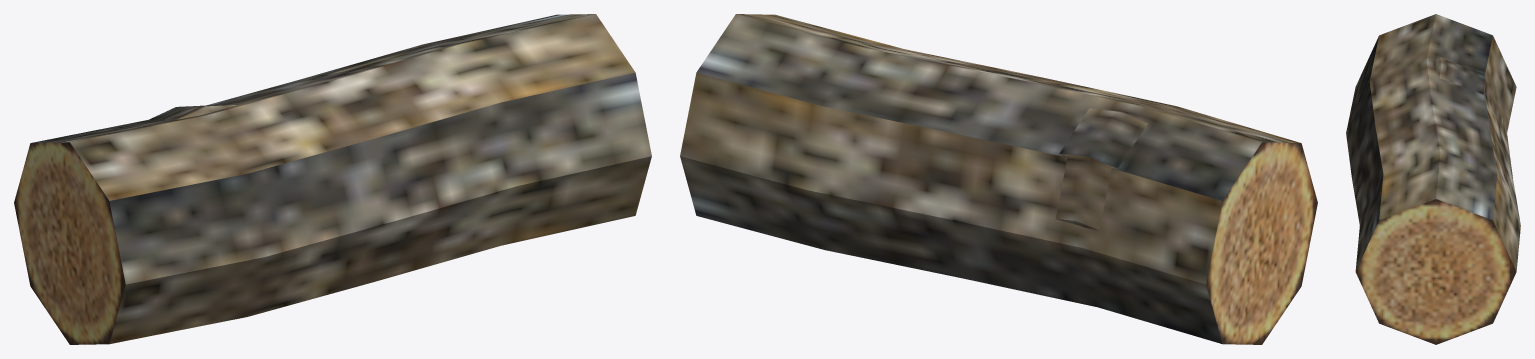
File: logs.fbx
3 renders of one model, left to right at view 1: azimuth 30°, elevation 25°; view 2: azimuth 150°, elevation 25°; view 3: azimuth 270°, elevation 25°, orthographic. The views are drawn at different scales.
Visible parts, largest first — view 1: log_01, log_02; view 2: log_01, log_02; view 3: log_01, log_02.
Boxes of the visible parts, left/top/right/bottom form: log_01: left=14, top=14, right=651, bottom=344; log_02: left=148, top=105, right=236, bottom=119; log_01: left=680, top=14, right=1317, bottom=344; log_02: left=1055, top=108, right=1147, bottom=230; log_01: left=1346, top=14, right=1520, bottom=344; log_02: left=1435, top=57, right=1502, bottom=129.
Size of the model in its own units: 60.58 by 22.29 by 24.2.
1 material, 1 textured.
